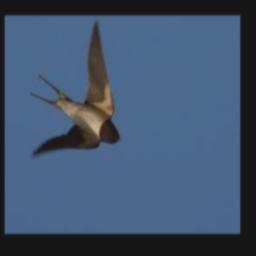Swallow: (29, 20, 121, 158)
